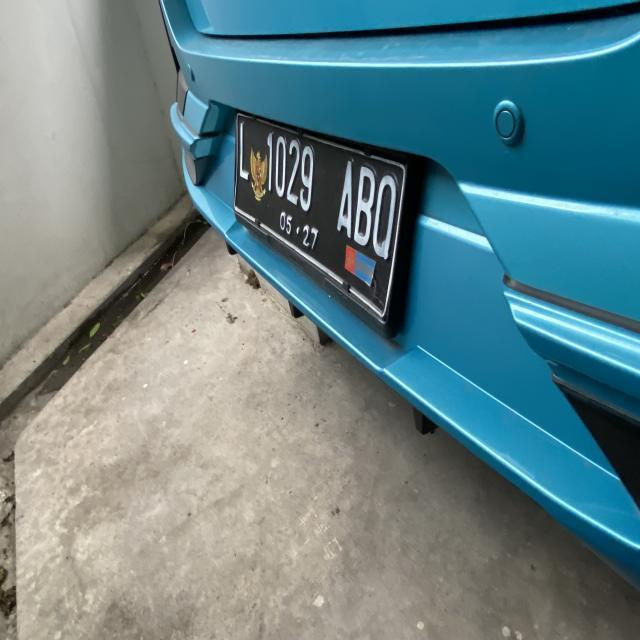0: (274, 129, 286, 197)
1: (267, 128, 273, 194)
2: (286, 132, 300, 213)
9: (300, 136, 314, 210)
A: (337, 151, 355, 239)
B: (356, 158, 373, 248)
L: (238, 122, 248, 186)
Q: (373, 165, 395, 266)
